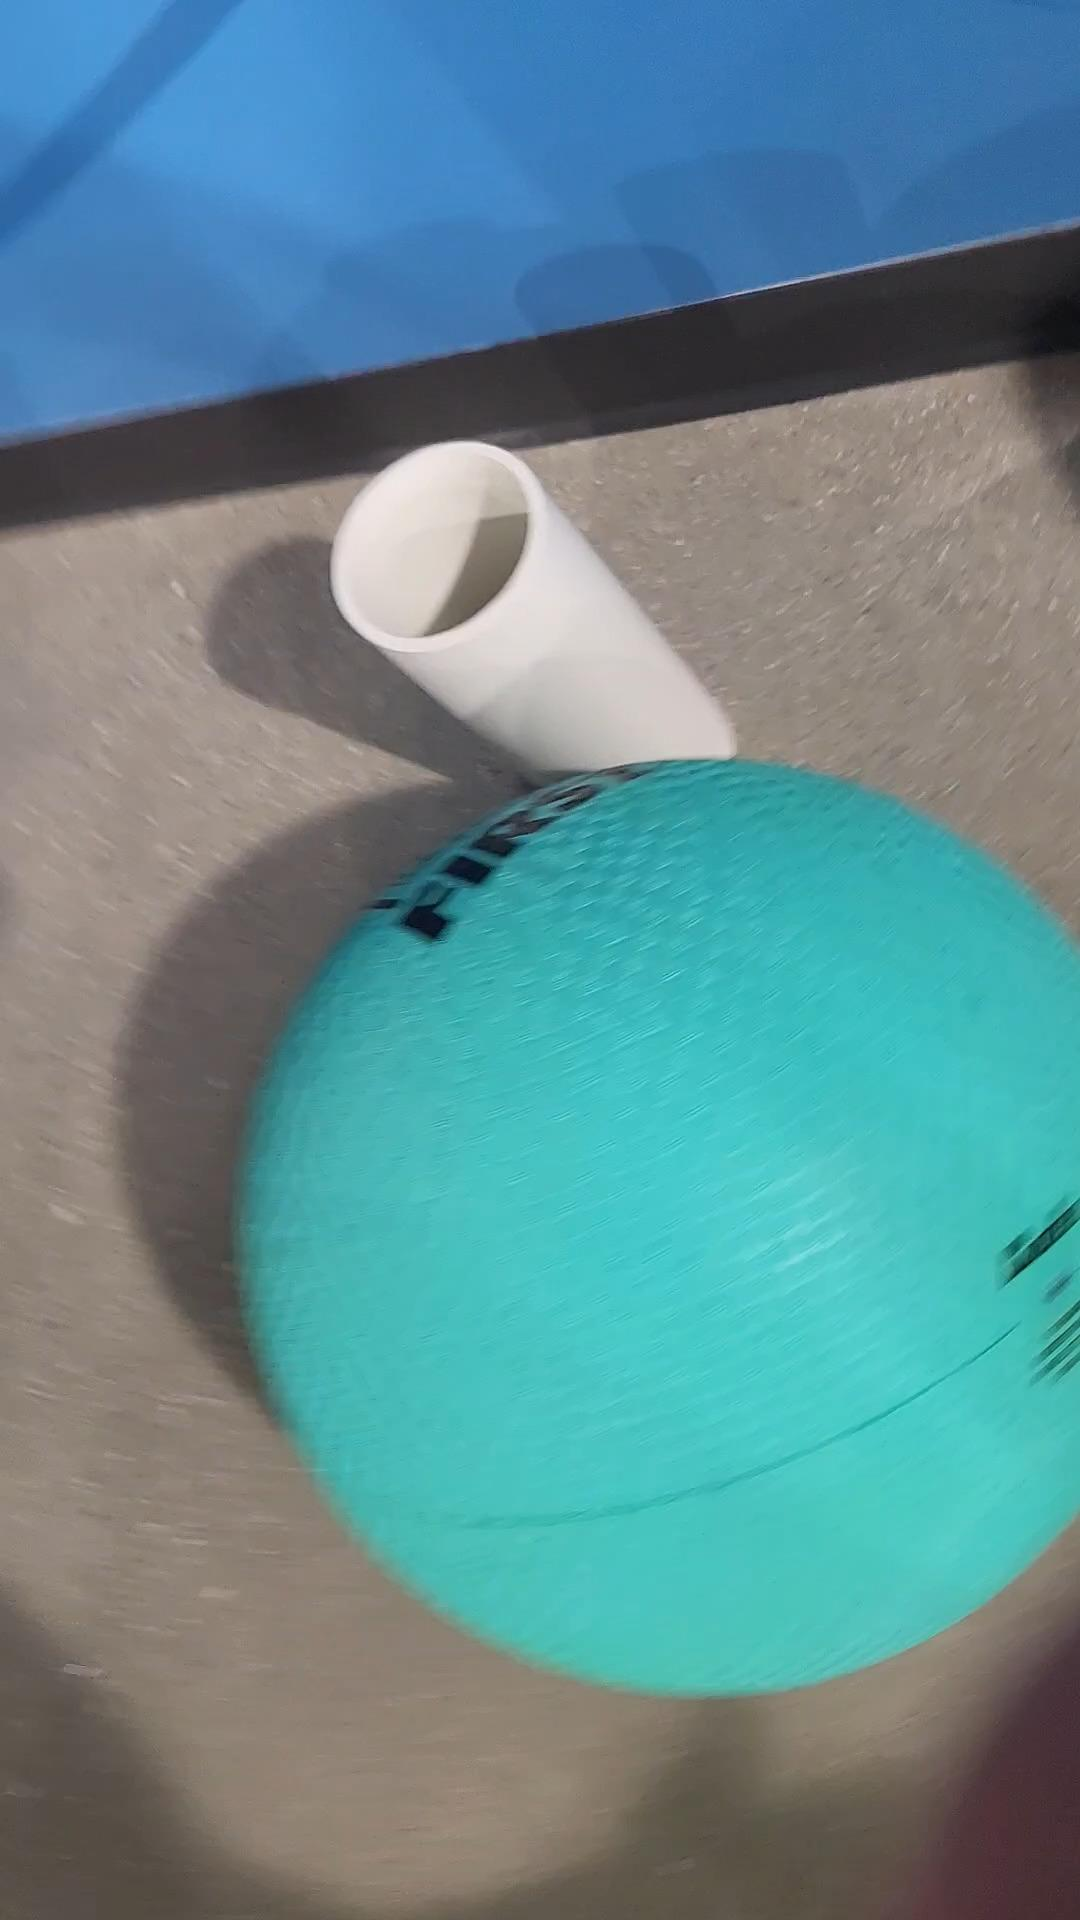algae: (243, 762, 1079, 1697)
coral: (332, 440, 732, 785)
